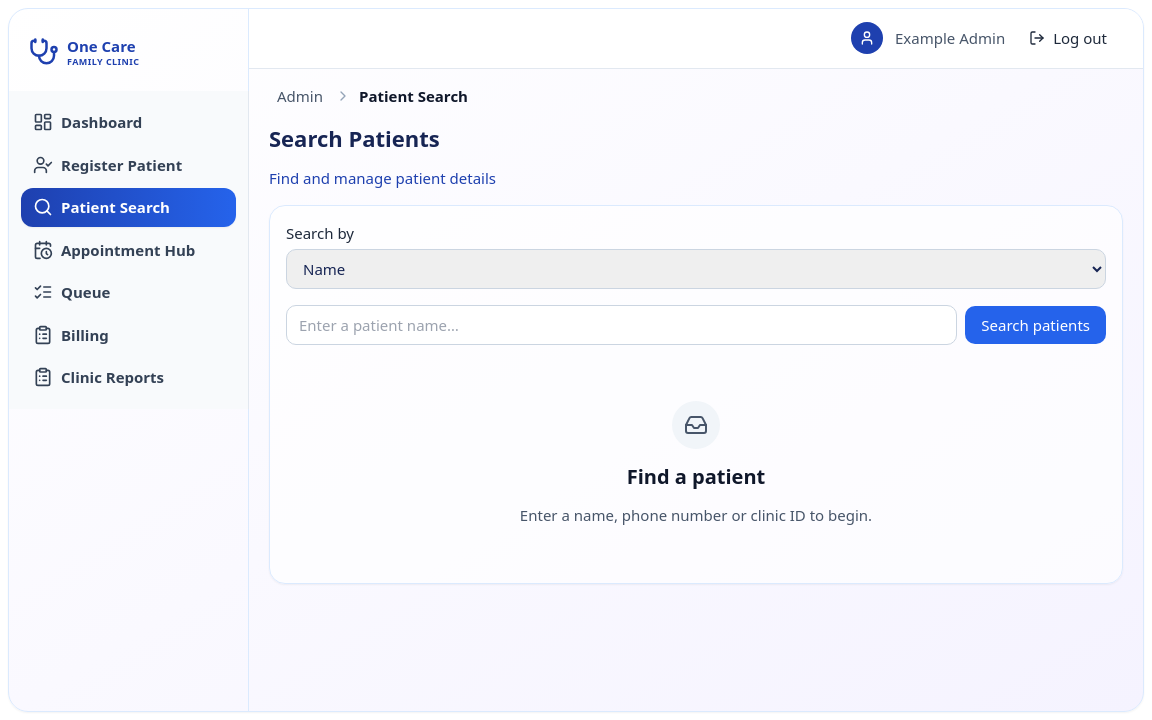
ADM-03 search, selection and privacy › searches by id with documented query
This screenshot has width=1152, height=720.
Select "Clinic ID" in the dropdown labelled "Search by" at (696, 269), box [286,249,1106,289]
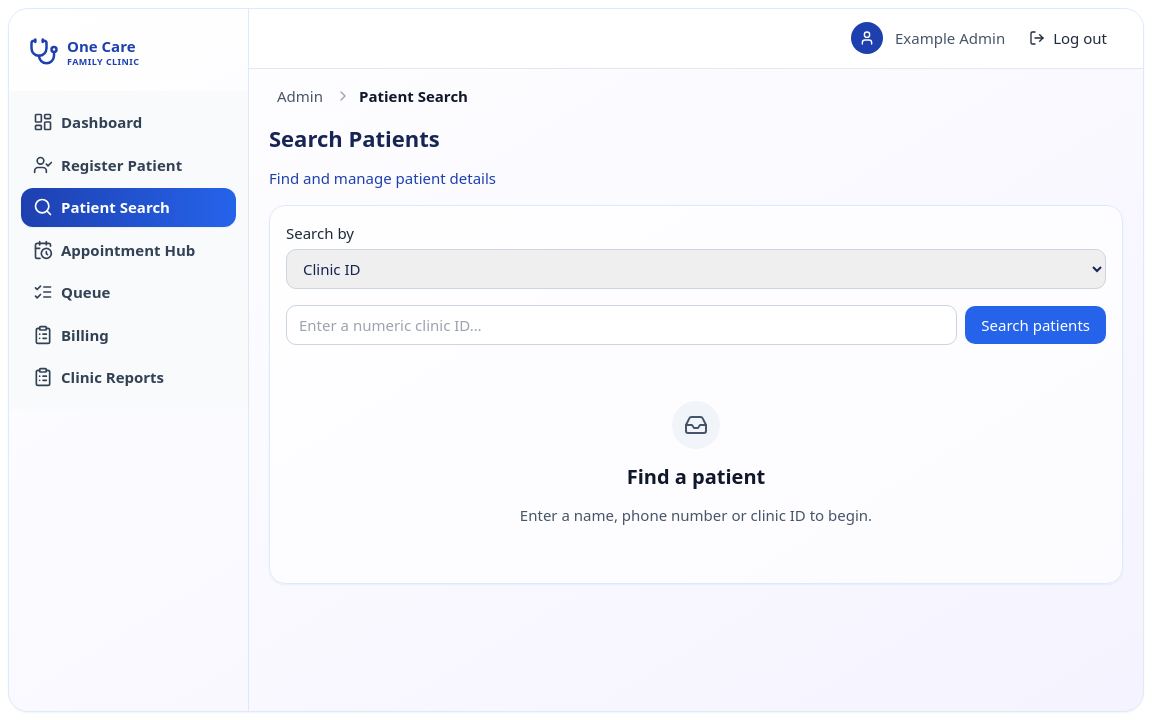
Type "101" into the search field at (622, 325), box [286,305,957,345]
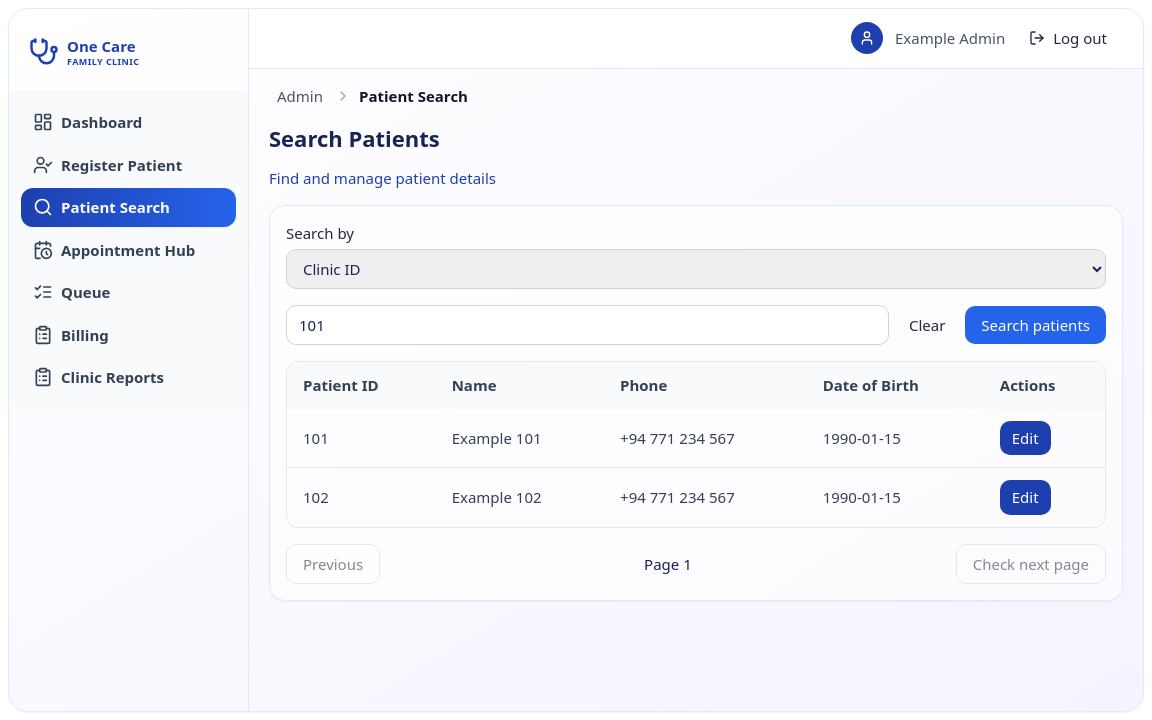
Expected: the button with aria-label "Edit patient 101" is shown, [1000,421,1051,455]
